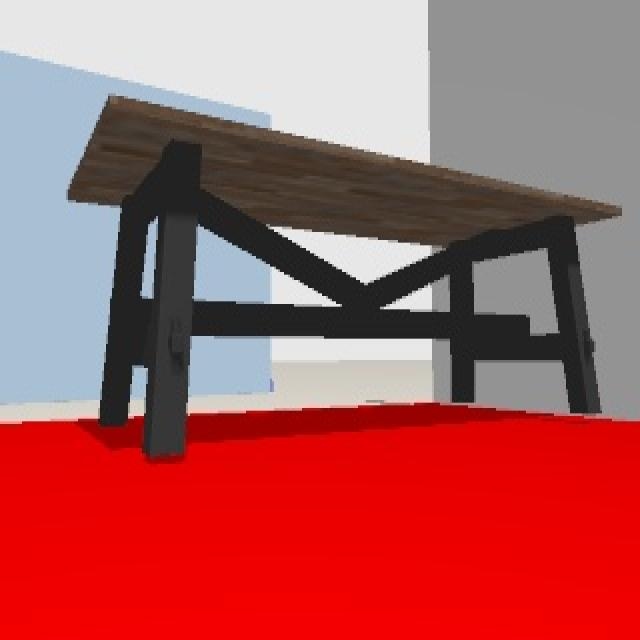dining: (63, 93, 640, 454)
